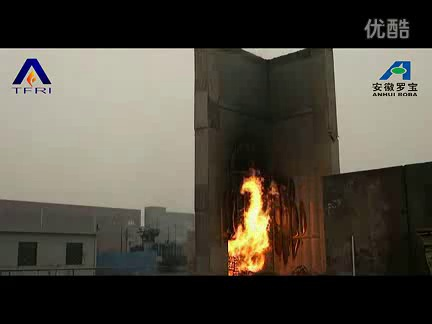fire: (227, 171, 277, 276)
